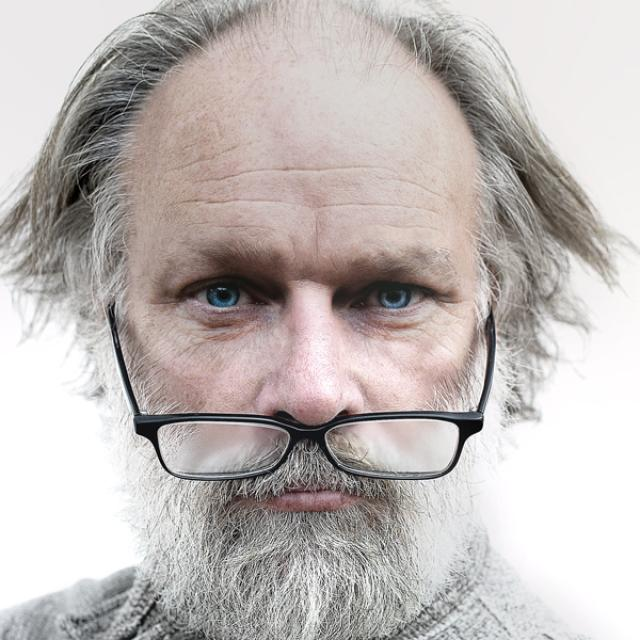face: (41, 6, 579, 630)
